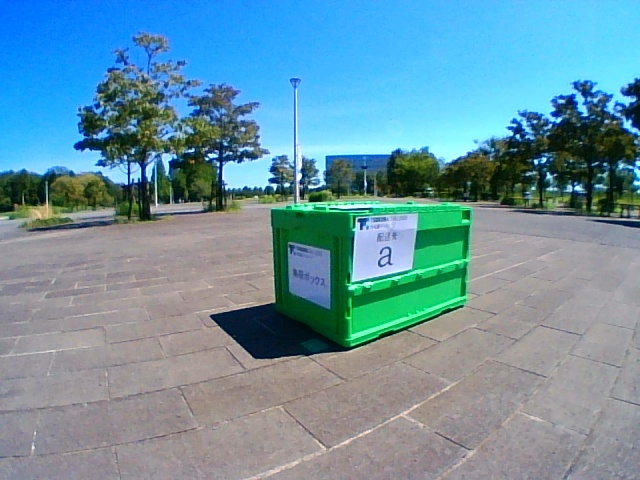green_box: (271, 200, 463, 307)
tag_a: (357, 218, 407, 271)
